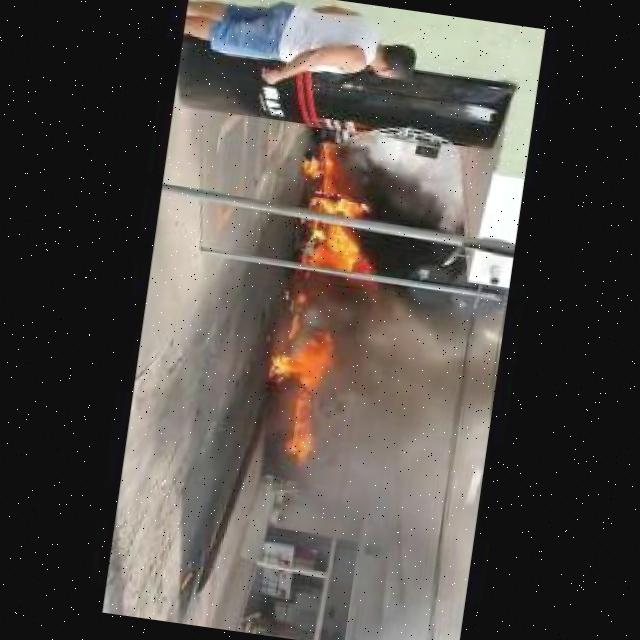fire: (278, 144, 386, 276), (260, 302, 342, 462)
